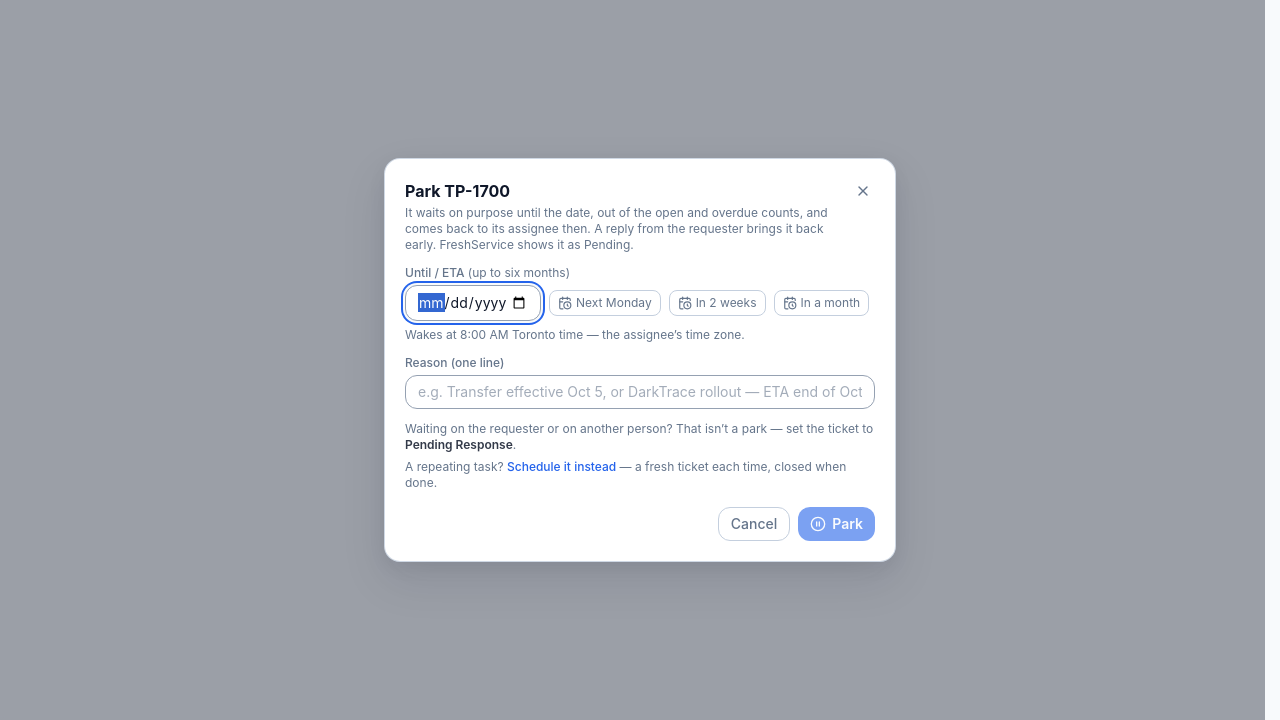
Scenario: wake time zone › the dialog says the day, 8:00 AM and whose zone
Type "2026-11-16" into the date field labelled "Until / ETA (up to six months)" at (473, 303), box [405,285,541,321]
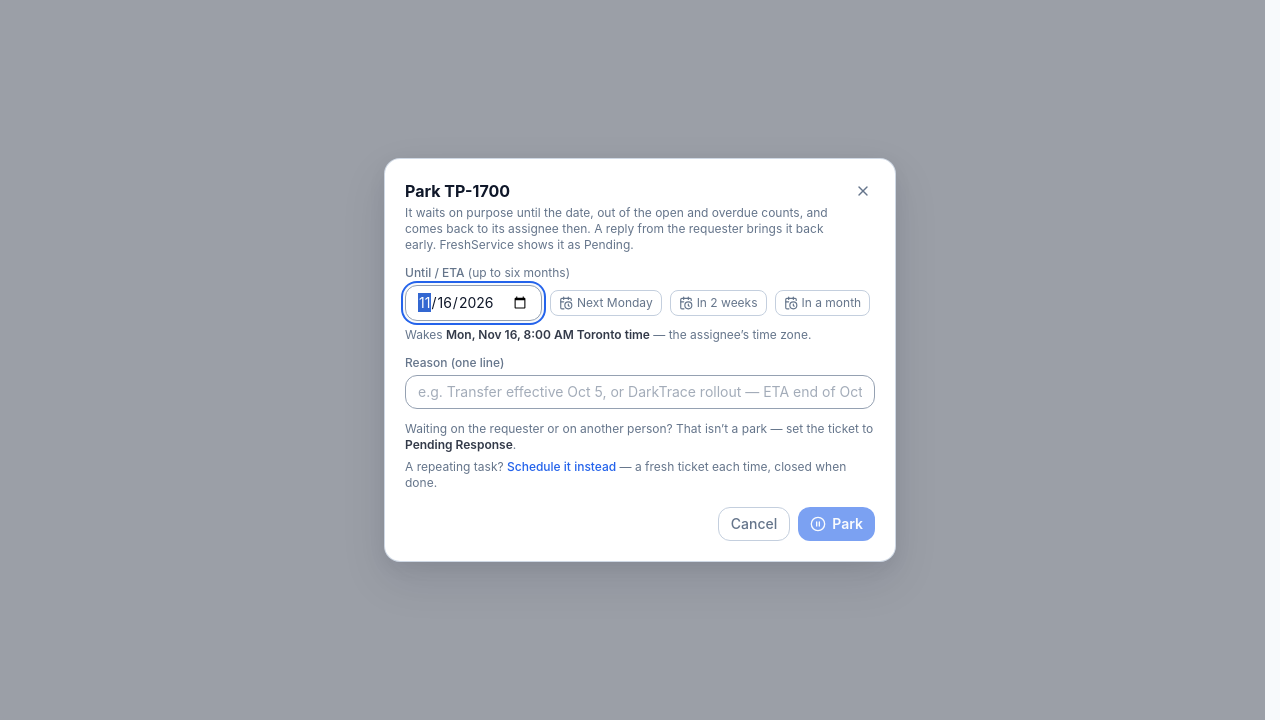
Now the element with test id "park-wake-hint" shows "Wakes Mon, Nov 16, 8:00 AM Toronto time — the assignee’s time zone", box [405,327,875,343]
